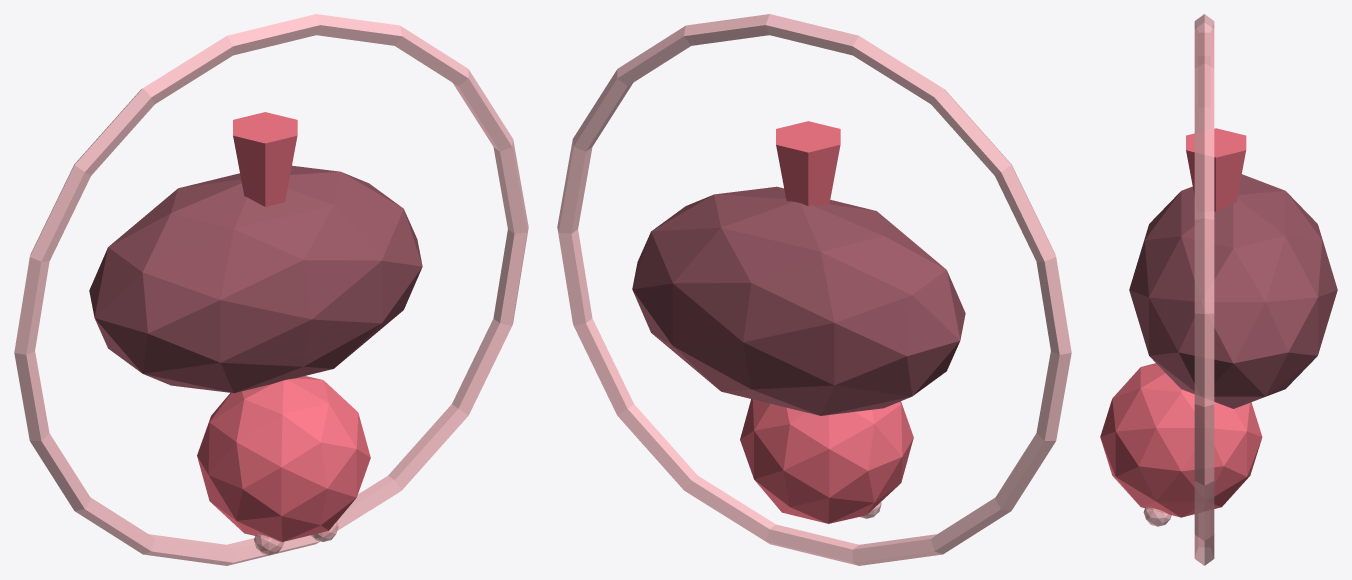
File: 08_pet_companion_proc.glb
3 renders of one model, left to right at view 1: azimuth 30°, elevation 25°; view 2: azimuth 150°, elevation 25°; view 3: azimuth 270°, elevation 25°, orthographic. The views are drawn at different scales.
Parts seen in each view (by area): view 1: pet_body, bonus_proc_ring, pet_head, tail_or_antenna; view 2: pet_body, bonus_proc_ring, pet_head, tail_or_antenna; view 3: pet_body, pet_head, bonus_proc_ring, tail_or_antenna, pet_eye_r.
Boxes of the visible parts, left/top/right/bottom form: pet_body: left=89, top=165, right=422, bottom=393; bonus_proc_ring: left=14, top=14, right=528, bottom=565; pet_head: left=197, top=376, right=370, bottom=541; tail_or_antenna: left=233, top=112, right=297, bottom=206; pet_body: left=632, top=186, right=965, bottom=415; bonus_proc_ring: left=557, top=14, right=1071, bottom=565; pet_head: left=740, top=399, right=913, bottom=523; tail_or_antenna: left=776, top=121, right=840, bottom=206; pet_body: left=1129, top=174, right=1337, bottom=408; pet_head: left=1100, top=363, right=1262, bottom=517; bonus_proc_ring: left=1194, top=14, right=1214, bottom=565; tail_or_antenna: left=1186, top=128, right=1246, bottom=211; pet_eye_r: left=1143, top=507, right=1171, bottom=526.
Size of the model in its own units: 0.956 by 0.9415 by 0.41.
